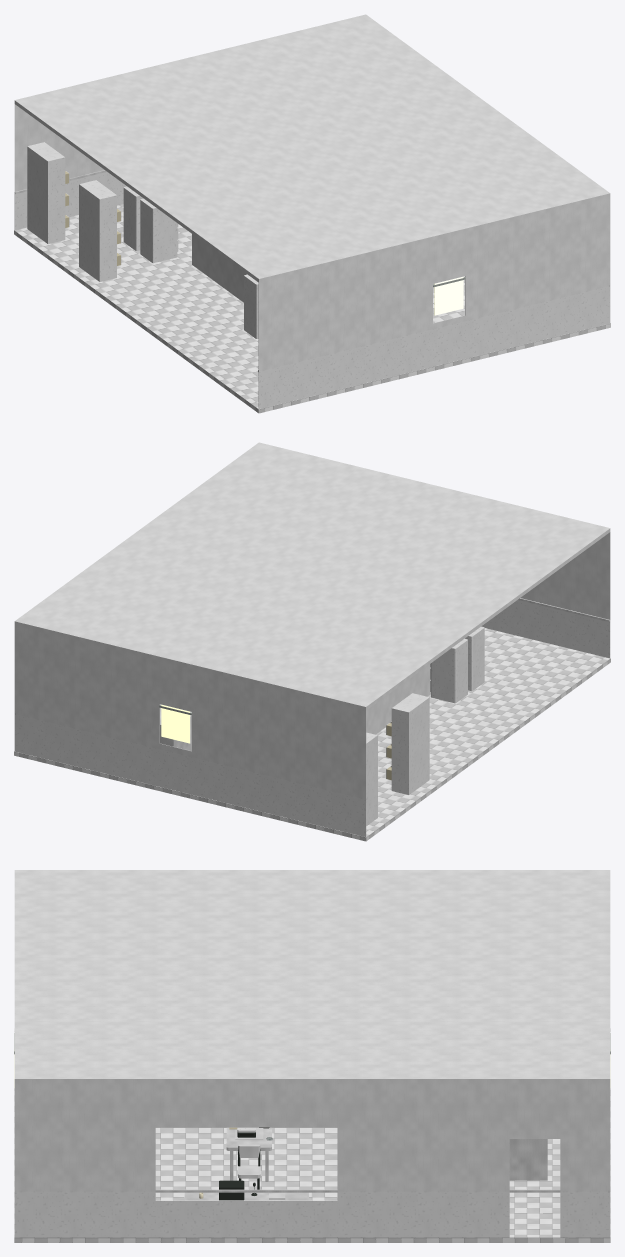
Rendered from SM_Town_Sheriff_Interior.glb.
3 renders of one model, top to bottom at view 1: azimuth 30°, elevation 25°; view 2: azimuth 150°, elevation 25°; view 3: azimuth 270°, elevation 25°, orthographic. The views are drawn at different scales.
Visible parts, largest first — view 1: SM_Town_Sheriff_Interior; view 2: SM_Town_Sheriff_Interior; view 3: SM_Town_Sheriff_Interior.
Boxes of the visible parts, <box> form: SM_Town_Sheriff_Interior: <box>14,14,610,413</box>; SM_Town_Sheriff_Interior: <box>14,442,610,841</box>; SM_Town_Sheriff_Interior: <box>14,870,610,1242</box>.
Size of the model in its own units: 9.8 by 3.57 by 11.81.
21 materials, 12 textured.
